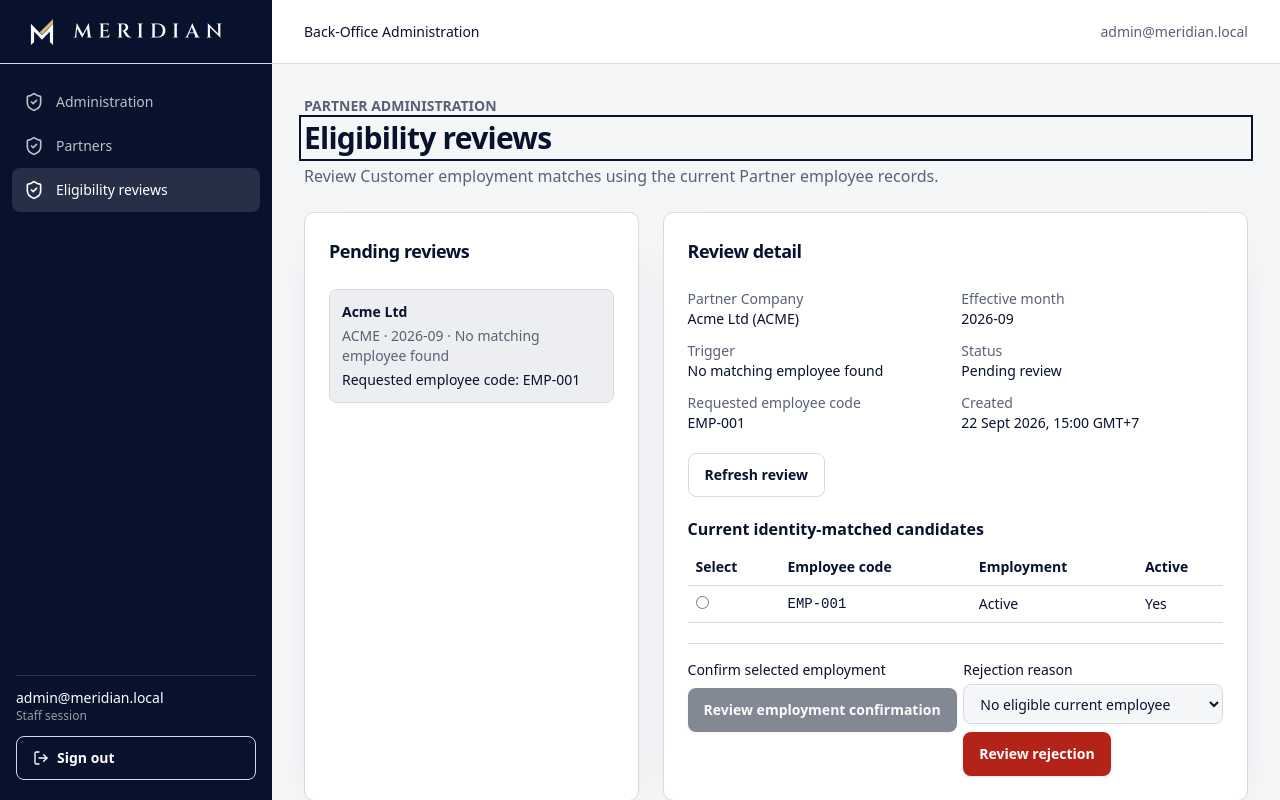
Test: Partner eligibility review page › keeps an uncertain pending review unconfirmed without retrying or substituting a candidate
Click the radio button named "Select EMP-001" at coordinates (702, 602), box [696, 596, 708, 609]
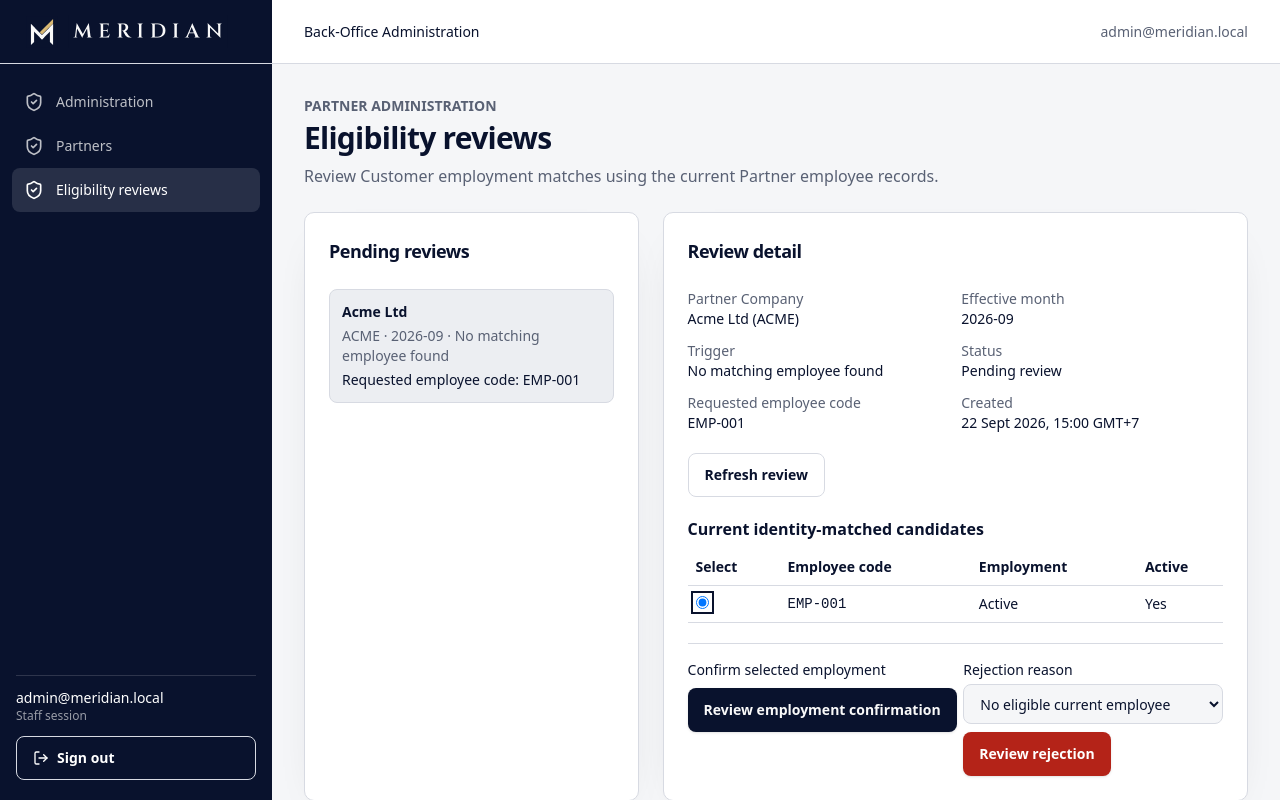
Click the button "Review employment confirmation" at coordinates (822, 710), box [688, 688, 957, 732]
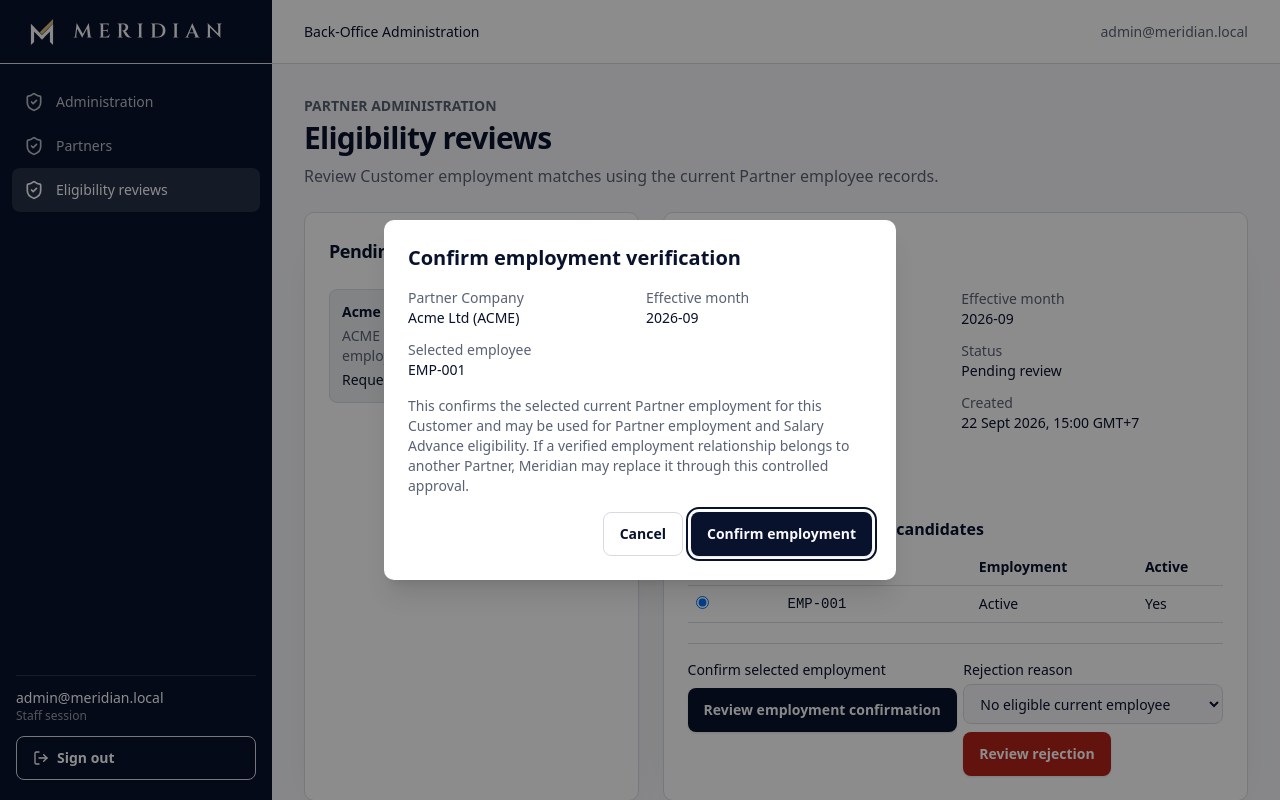
Click the button "Confirm employment" at coordinates (782, 534), box [691, 512, 872, 556]
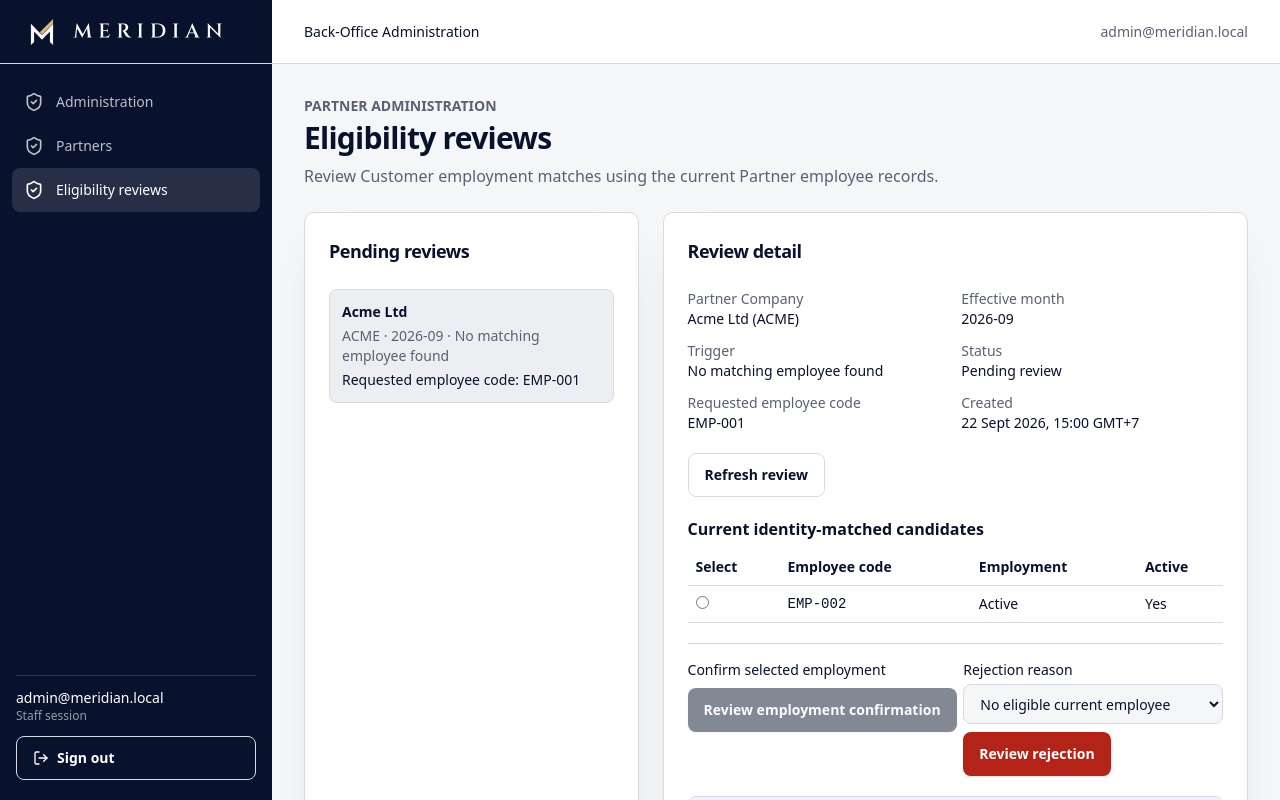
Check: the radio button named "Select EMP-002" is not checked, box [696, 596, 708, 609]
Check: the button "Review employment confirmation" is disabled, box [688, 688, 957, 732]
